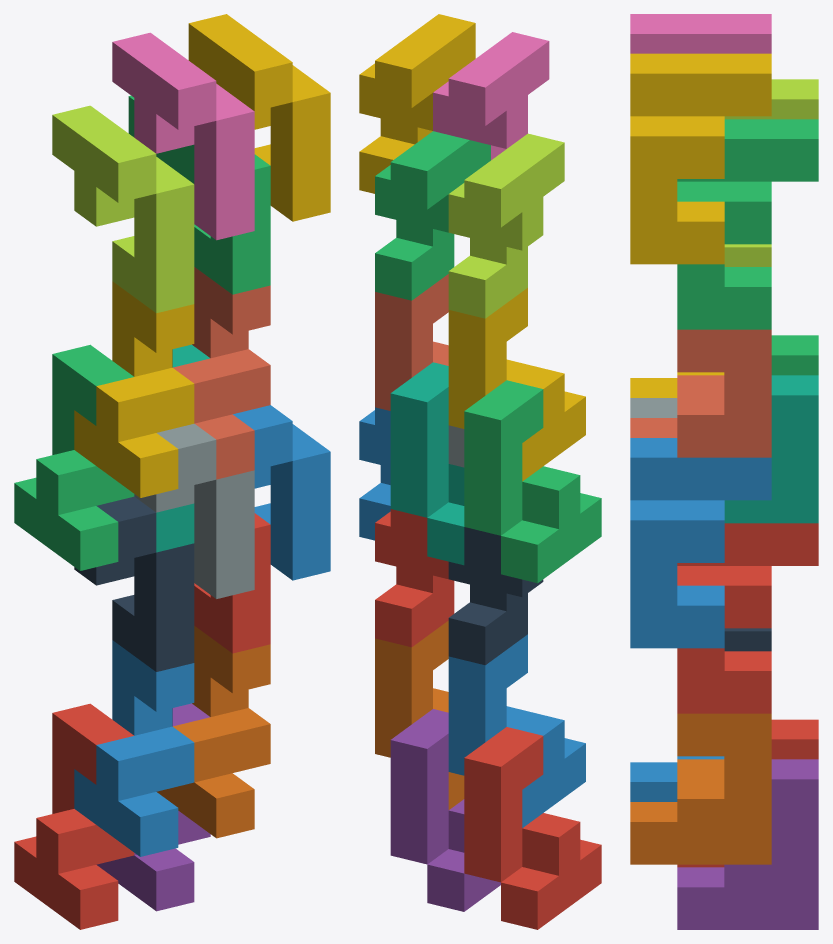
File: tiling.obj
3 renders of one model, left to right at view 1: azimuth 30°, elevation 25°; view 2: azimuth 150°, elevation 25°; view 3: azimuth 270°, elevation 25°, orthographic. The views are drawn at different scales.
Visible parts, largest first — view 1: copy_2_domain_3, copy_2_domain_4, copy_1_domain_2, copy_1_domain_4, copy_2_domain_8, copy_1_domain_1, copy_1_domain_3, copy_1_domain_6, copy_1_domain_8, copy_2_domain_1, copy_2_domain_6, copy_2_domain_2 (+4 smaller); view 2: copy_1_domain_1, copy_1_domain_3, copy_2_domain_3, copy_2_domain_7, copy_1_domain_5, copy_1_domain_4, copy_1_domain_2, copy_1_domain_7, copy_2_domain_8, copy_2_domain_4, copy_2_domain_5, copy_2_domain_1 (+4 smaller); view 3: copy_2_domain_8, copy_2_domain_6, copy_1_domain_6, copy_2_domain_7, copy_2_domain_5, copy_1_domain_5, copy_1_domain_8, copy_1_domain_7, copy_2_domain_4, copy_2_domain_3, copy_1_domain_1, copy_1_domain_2 (+4 smaller).
Part boxes in pixels (box(x1,y1,x2,y2)): copy_2_domain_3: box(52, 105, 194, 313); copy_2_domain_4: box(112, 32, 254, 240); copy_1_domain_2: box(74, 640, 194, 856); copy_1_domain_4: box(74, 281, 194, 497); copy_2_domain_8: box(188, 14, 330, 221); copy_1_domain_1: box(14, 703, 134, 929); copy_1_domain_3: box(14, 344, 134, 570); copy_1_domain_6: box(156, 626, 270, 838); copy_1_domain_8: box(173, 267, 270, 479); copy_2_domain_1: box(74, 496, 194, 671); copy_2_domain_6: box(233, 405, 330, 580); copy_2_domain_2: box(134, 423, 254, 598); copy_1_domain_1: box(464, 727, 601, 929); copy_1_domain_3: box(464, 380, 601, 583); copy_2_domain_3: box(448, 133, 564, 318); copy_2_domain_7: box(375, 131, 490, 300); copy_1_domain_5: box(390, 709, 500, 911); copy_1_domain_4: box(448, 288, 585, 481); copy_1_domain_2: box(448, 634, 585, 827); copy_1_domain_7: box(390, 362, 464, 565); copy_2_domain_8: box(359, 14, 475, 193); copy_2_domain_4: box(433, 32, 549, 160); copy_2_domain_5: box(375, 509, 454, 647); copy_2_domain_1: box(448, 527, 543, 665); copy_2_domain_8: box(630, 53, 771, 264); copy_2_domain_6: box(630, 438, 771, 648); copy_1_domain_6: box(630, 713, 771, 864); copy_2_domain_7: box(677, 119, 818, 329); copy_2_domain_5: box(677, 523, 818, 713); copy_1_domain_5: box(677, 759, 818, 929); copy_1_domain_8: box(630, 329, 771, 457); copy_1_domain_7: box(724, 375, 818, 523); copy_2_domain_4: box(630, 14, 771, 53); copy_2_domain_3: box(724, 79, 818, 266); copy_1_domain_1: box(677, 719, 818, 867); copy_1_domain_2: box(630, 756, 724, 801).
Bounding box in the file's own units: 6 × 21 × 4.
